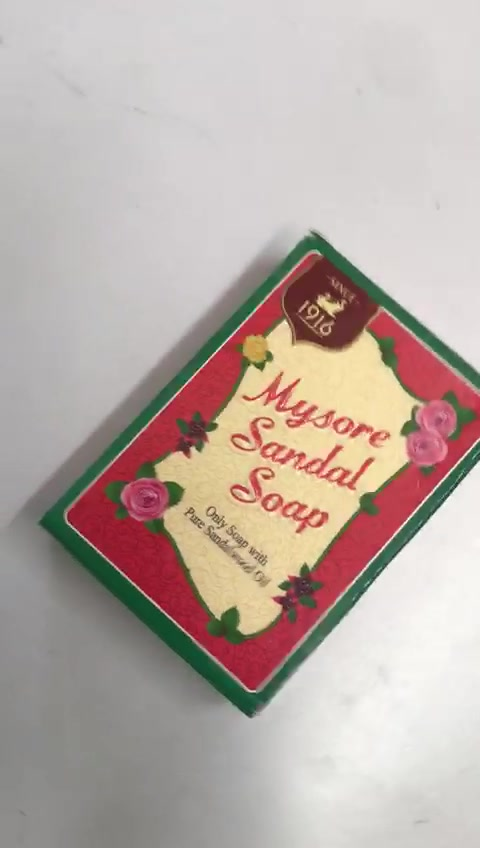mysoresandalsoap: (38, 231, 480, 720)
